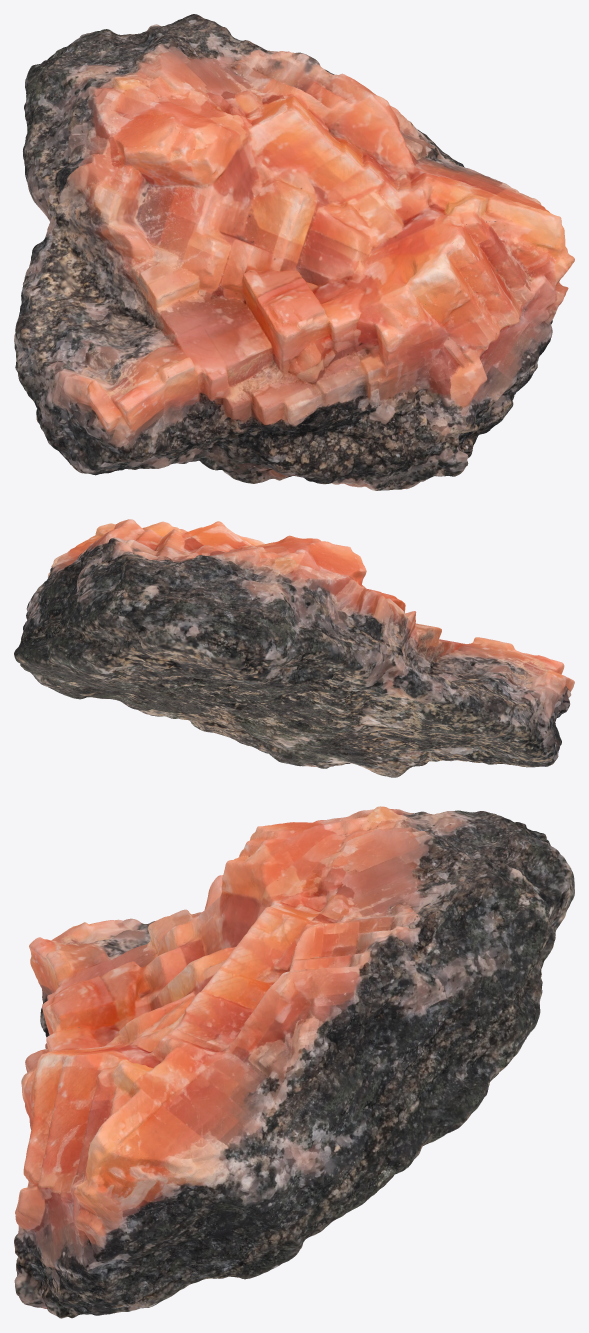
File: calcite.glb
3 renders of one model, top to bottom at view 1: azimuth 30°, elevation 25°; view 2: azimuth 150°, elevation 25°; view 3: azimuth 270°, elevation 25°, orthographic. The views are drawn at different scales.
Parts seen in each view (by area): view 1: Model_material1_0, Model_material2_0, Model_material0_0; view 2: Model_material2_0, Model_material0_0, Model_material1_0; view 3: Model_material1_0, Model_material0_0, Model_material2_0.
Boxes of the visible parts, x1,y1,x2,y2 form: Model_material1_0: [105, 62, 548, 490]; Model_material2_0: [14, 14, 361, 475]; Model_material0_0: [23, 29, 574, 490]; Model_material2_0: [77, 529, 574, 767]; Model_material0_0: [30, 523, 428, 777]; Model_material1_0: [14, 519, 458, 692]; Model_material1_0: [21, 826, 542, 1246]; Model_material0_0: [14, 808, 574, 1318]; Model_material2_0: [29, 806, 552, 1053].
Bounding box in the file's own units: 0.5949 × 0.3826 × 0.4761.
Materials: 3 (3 with a texture image).
